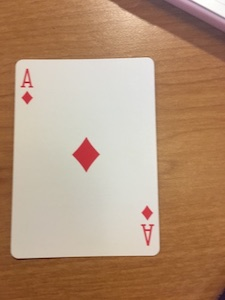AceOfDiamonds: (13, 55, 162, 260)
